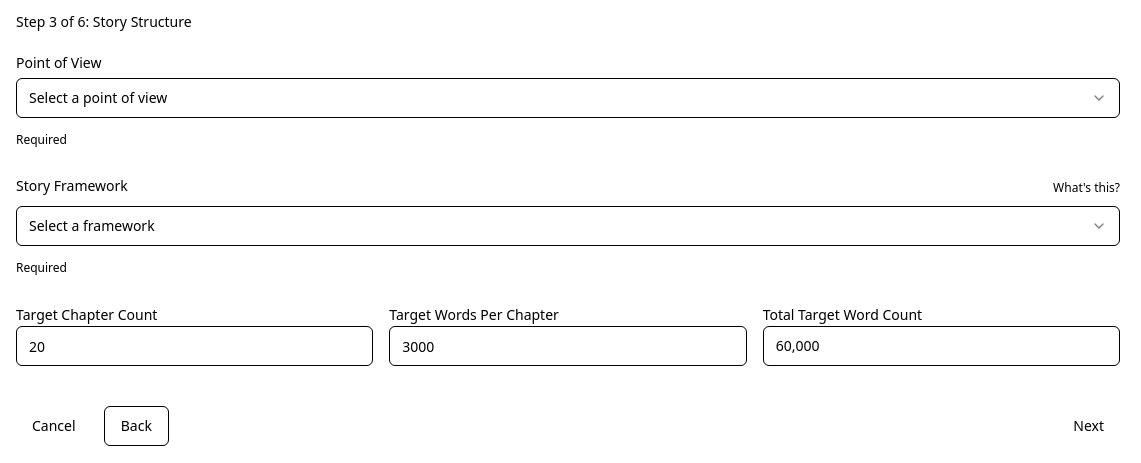
Test case: Wizard Step 3 › requires POV and Framework before proceeding
Click the button with test id "next-button".
click(1089, 426)  # box [1057, 406, 1120, 446]
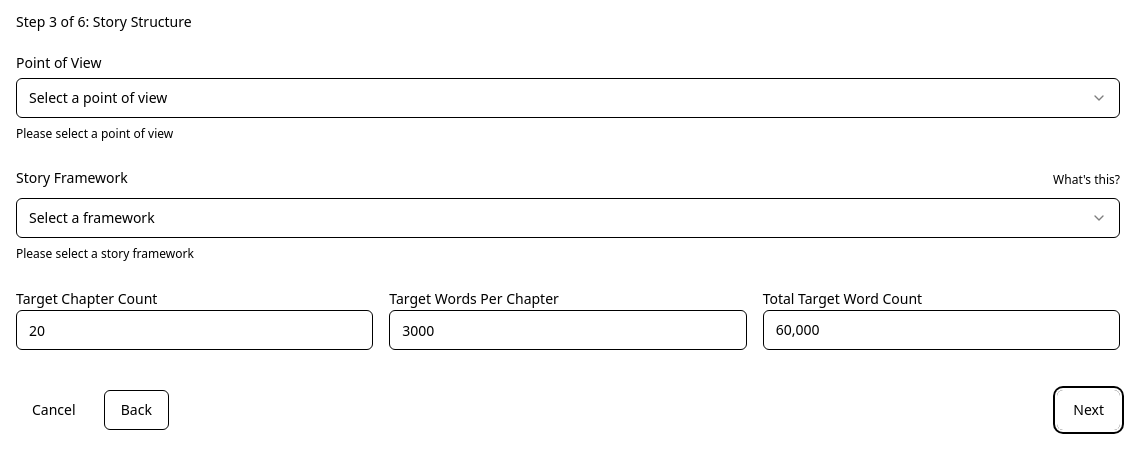
Result: the text "Please select a point of view" is shown at [16, 125, 173, 142]
Result: the text "Please select a story framework" is shown at [16, 245, 194, 262]
